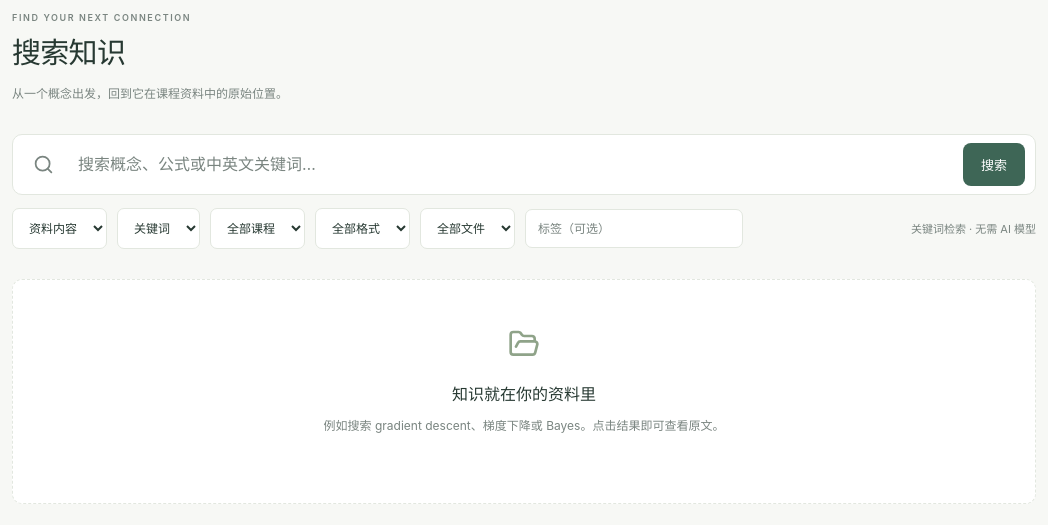
Test: clears old pages when criteria change
The width and height of the screenshot is (1048, 525).
Type "alpha" into the search field. click: (508,164)
box: [66,144,951,186]
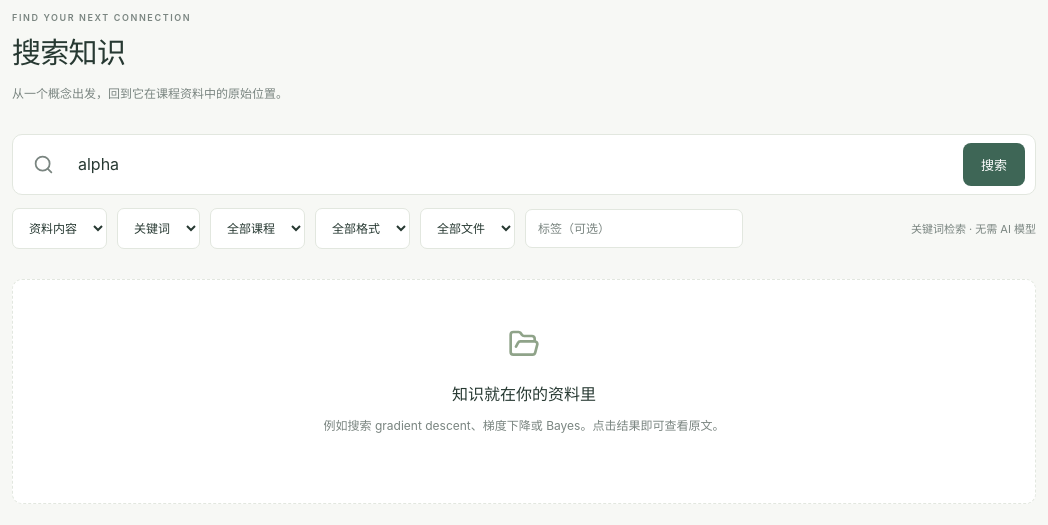
Click the button "搜索". click: (994,164)
box: [963,143,1025,186]
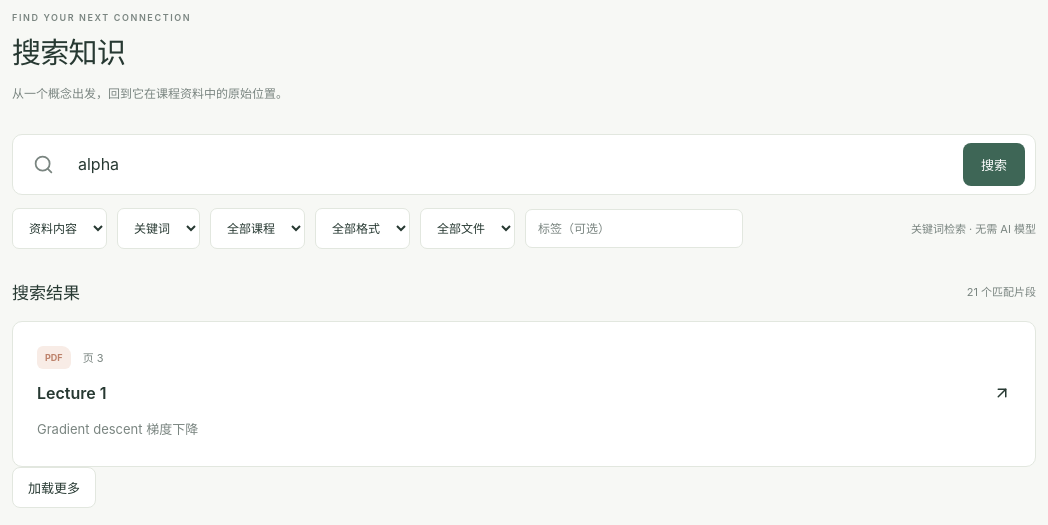
Now the button "加载更多" is shown, box [12,467,96,508]
Replace the text in the search field with "beta". click: (508,164)
box: [66,144,951,186]
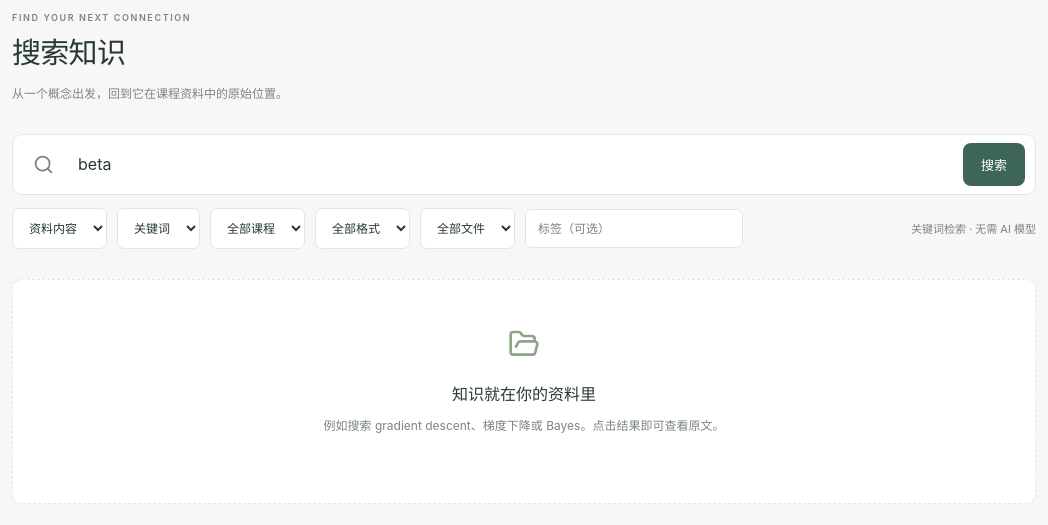
Now the button "加载更多" is gone
Now the link "Lecture 1" is gone
